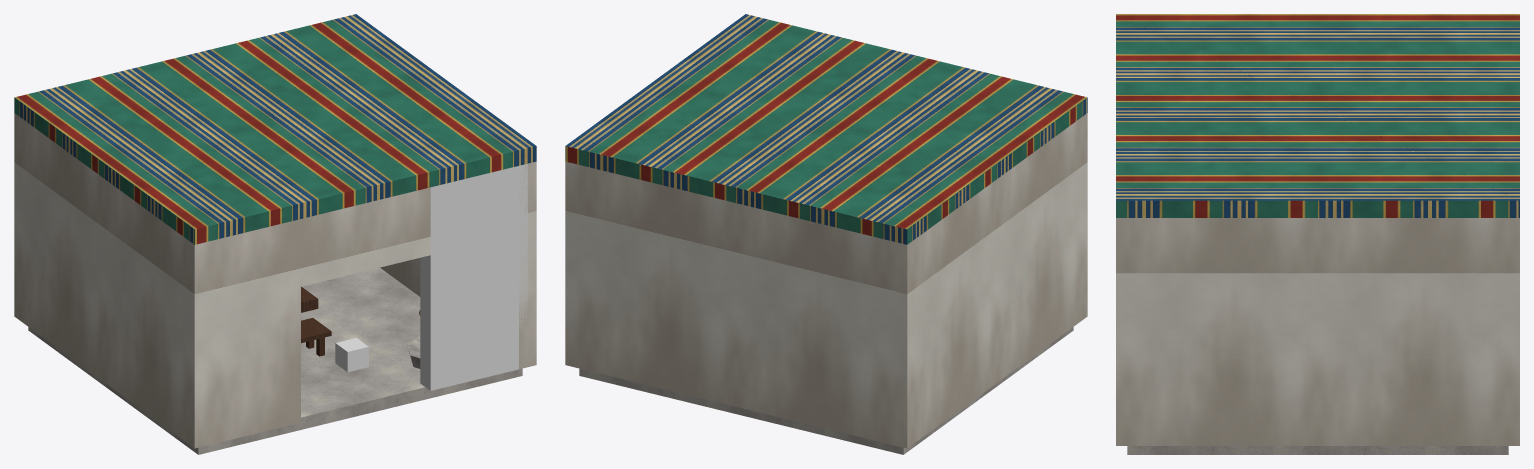
Rendered from elder_quarters.glb.
3 renders of one model, left to right at view 1: azimuth 30°, elevation 25°; view 2: azimuth 150°, elevation 25°; view 3: azimuth 270°, elevation 25°, orthographic. The views are drawn at different scales.
Parts seen in each view (by area): view 1: Walls, Ceiling, ShellFront-convcolonly.001, Floor, StoolCol-convcolonly.001, Table; view 2: Walls, Ceiling, Floor; view 3: Walls, Ceiling, Floor.
Part boxes in pixels (x1,y1,x2,y2): Walls: (14,113,536,448); Ceiling: (14,14,536,244); ShellFront-convcolonly.001: (420,163,527,390); Floor: (28,267,522,454); StoolCol-convcolonly.001: (335,338,368,372); Table: (301,318,331,356); Walls: (565,113,1087,448); Ceiling: (565,14,1087,244); Floor: (579,327,1073,454); Walls: (1116,218,1519,445); Ceiling: (1116,14,1519,217); Floor: (1127,446,1508,454).
Size of what is drawn, in the model's own units: 5.8 by 3.75 by 5.3.
Materials: 9 (5 with a texture image).
